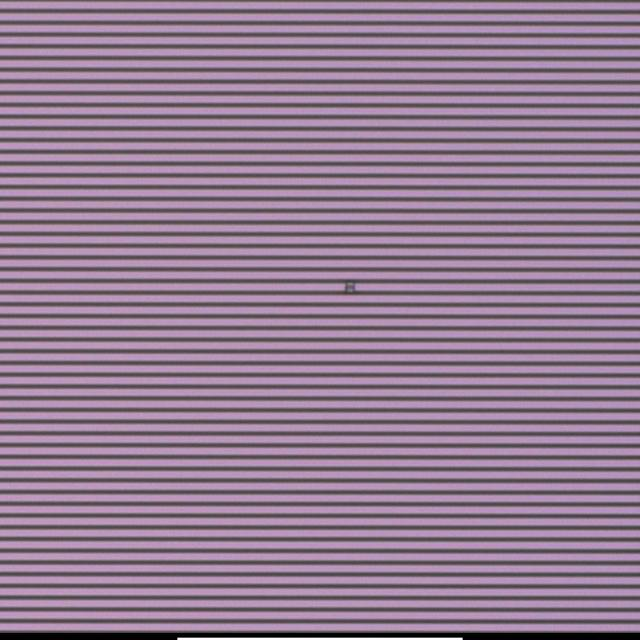03_intrusion: (344, 281, 356, 295)
